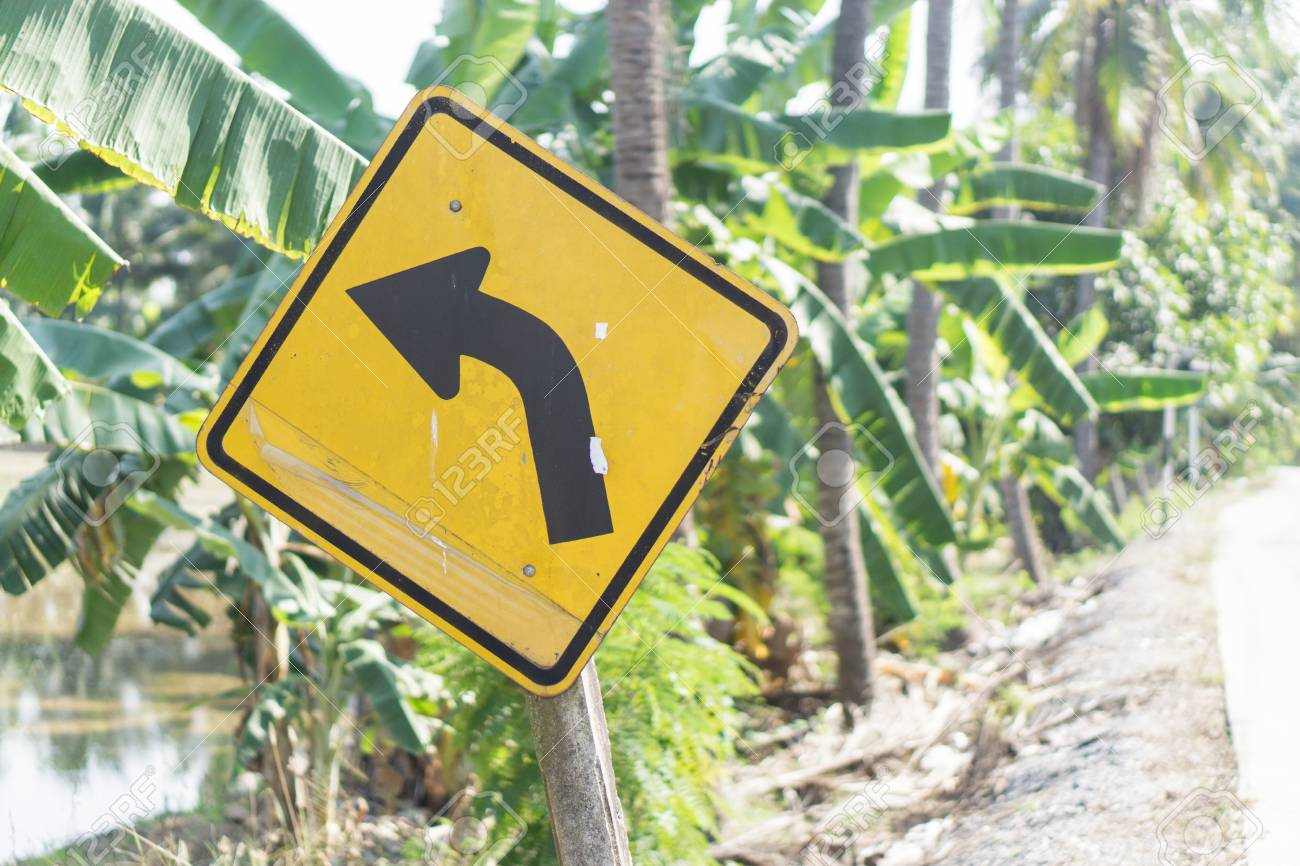left: (192, 79, 805, 698)
